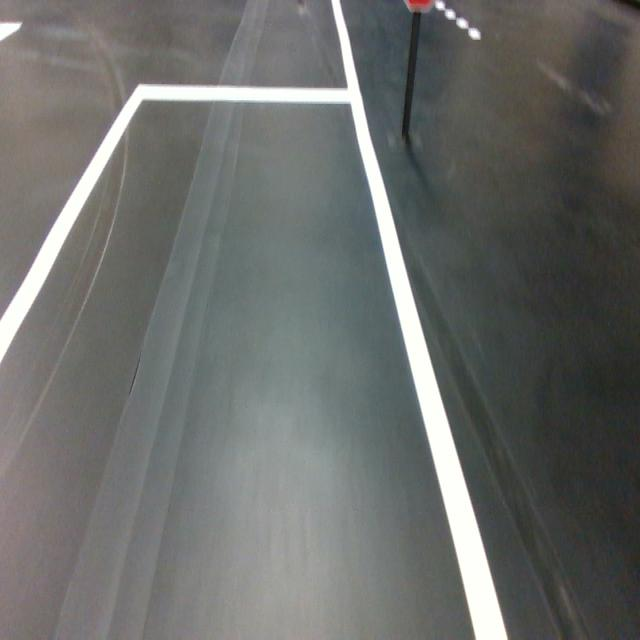stop-sign: (402, 0, 437, 14)
